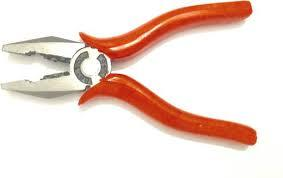pliers: (0, 0, 256, 145)
